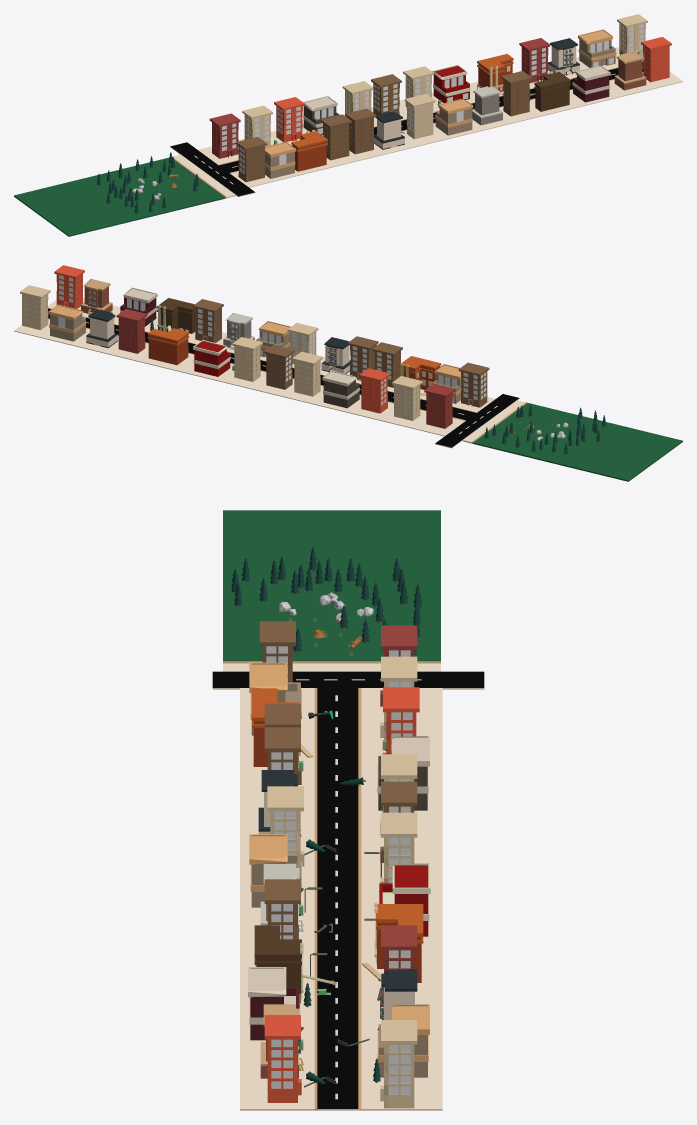
File: Street.fbx
3 renders of one model, top to bottom at view 1: azimuth 30°, elevation 25°; view 2: azimuth 150°, elevation 25°; view 3: azimuth 270°, elevation 25°, orthographic. The views are drawn at different scales.
Visible parts, largest first — view 1: ground, Plane, house_06, house_04, house_11, house_13, house_15, house_27, house_20, house_19, house_23, house_08 (+17 smaller); view 2: ground, Plane, house_09, house_17, house_06, house_07, house_19, house_11, house_23, house_25, house_14, house_12 (+17 smaller); view 3: Plane, ground, house_01, house_02, house_27, house_06, house_11, house_15, house_12, house_13, house_09, house_08 (+16 smaller).
Part boxes in pixels (x1,y1,x2,y2): ground: [14, 154, 235, 236]; Plane: [170, 47, 682, 196]; house_06: [530, 70, 570, 111]; house_04: [578, 29, 616, 67]; house_11: [432, 64, 470, 102]; house_13: [435, 99, 473, 135]; house_15: [404, 94, 435, 139]; house_27: [572, 65, 610, 102]; house_20: [291, 129, 327, 171]; house_19: [274, 97, 304, 142]; house_23: [236, 137, 267, 182]; house_08: [501, 71, 531, 116]; ground: [462, 400, 682, 481]; Plane: [14, 298, 519, 448]; house_09: [147, 328, 189, 365]; house_17: [322, 370, 359, 408]; house_06: [156, 298, 195, 333]; house_07: [116, 309, 147, 353]; house_19: [359, 368, 390, 413]; house_11: [193, 340, 230, 376]; house_23: [458, 362, 489, 407]; house_25: [292, 351, 322, 396]; house_14: [264, 344, 294, 389]; house_12: [232, 337, 262, 381]; Plane: [212, 671, 484, 1110]; ground: [223, 510, 440, 671]; house_01: [380, 1020, 417, 1108]; house_02: [264, 1015, 301, 1102]; house_27: [248, 967, 300, 1040]; house_06: [254, 925, 336, 1003]; house_11: [378, 863, 430, 936]; house_15: [267, 786, 304, 866]; house_12: [380, 812, 417, 883]; house_13: [249, 834, 301, 907]; house_09: [362, 902, 423, 982]; house_08: [264, 879, 300, 939].
Size of the model in its own units: 41550 by 2347 by 7951.
